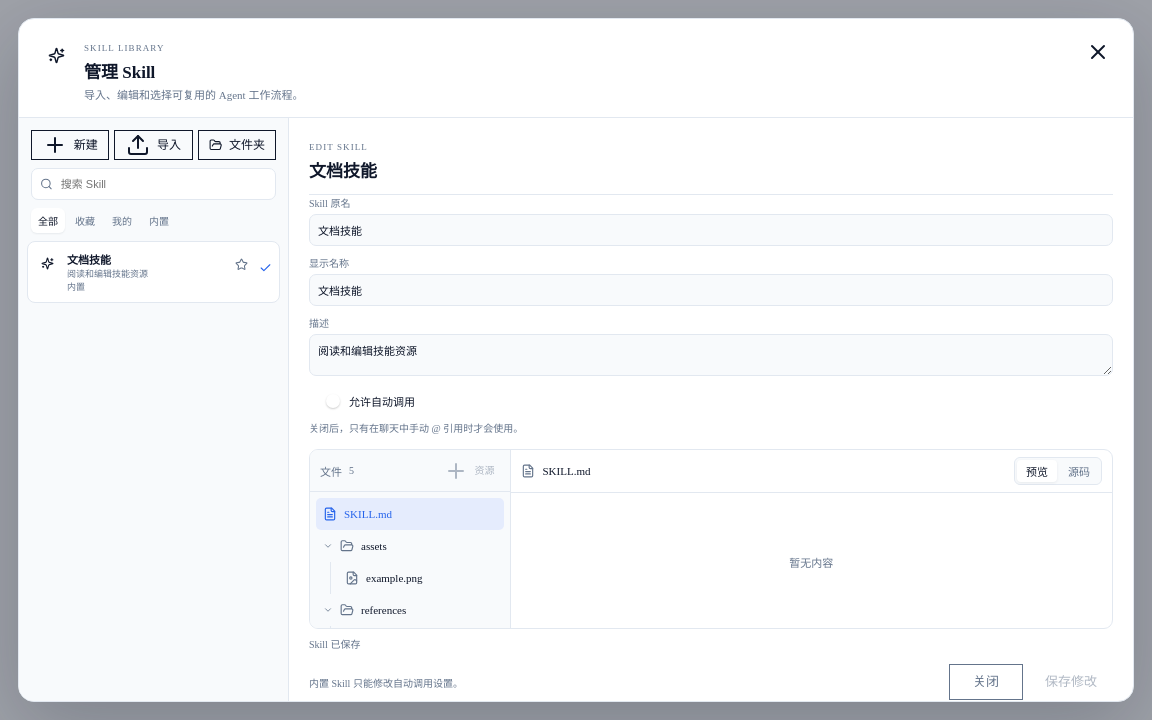
it: SkillManager › shows empty files and binary resources and keeps built-in source read-only
Expected: the text "暂无内容" is shown, [789,557,833,569]
Click the button "源码" at (1079, 471), box [1059,460,1099,482]
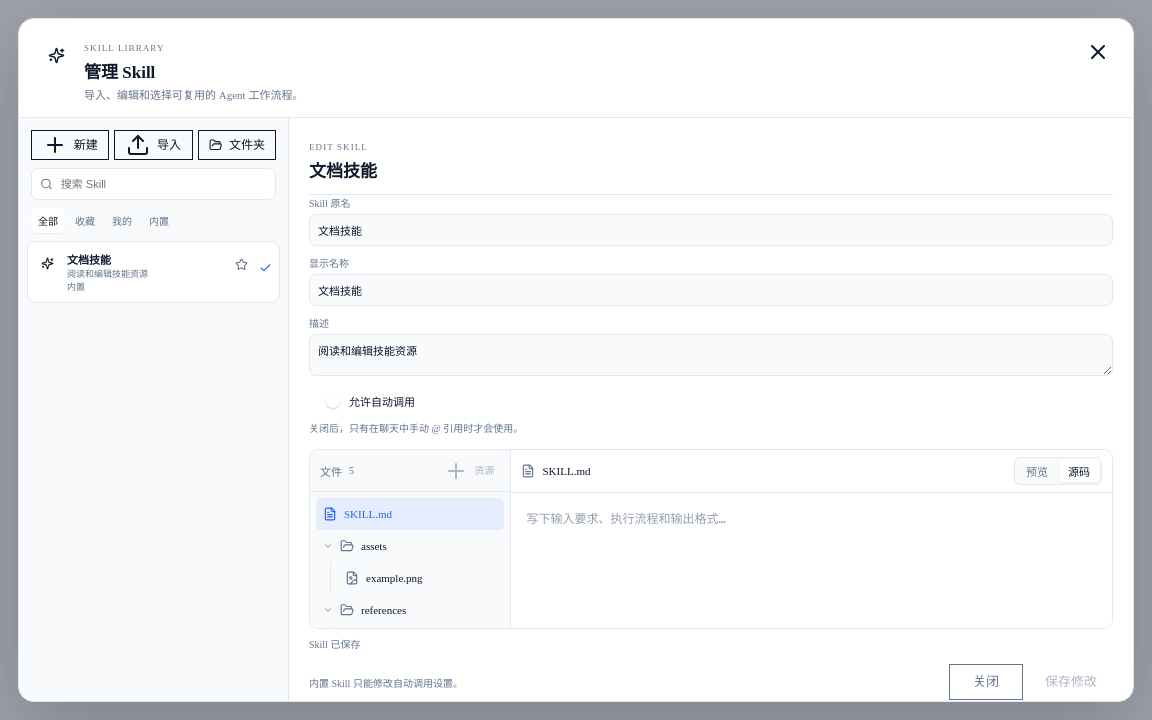
Click the button "example.png" at (421, 578), box [338,562,504,594]
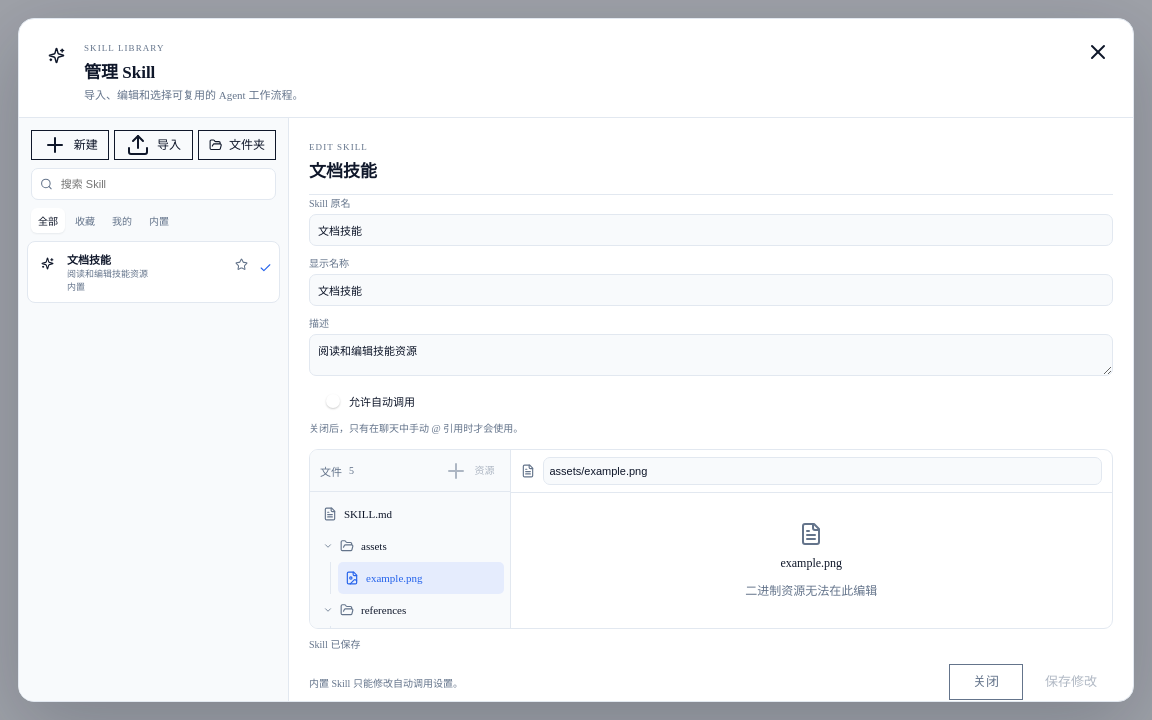
Expected: the text "二进制资源无法在此编辑" is shown, [745,581,877,599]
